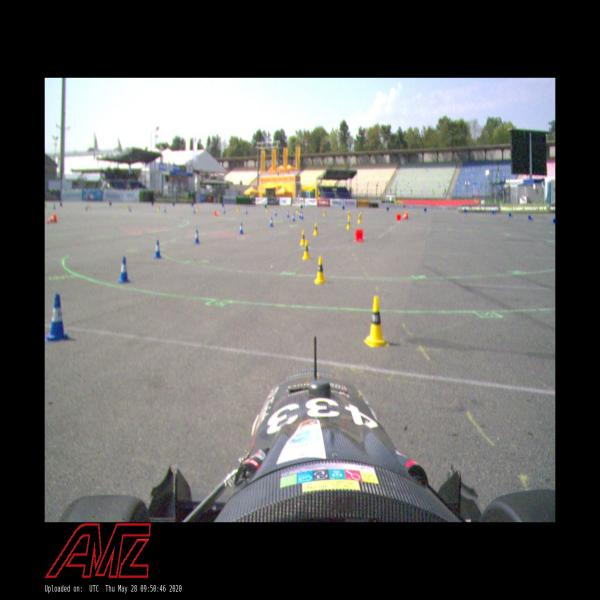blue_cone: (44, 292, 70, 343), (118, 255, 131, 284), (153, 239, 162, 259), (194, 228, 200, 244), (239, 222, 244, 235), (269, 217, 274, 227), (292, 212, 296, 222), (286, 210, 290, 218), (274, 210, 277, 216), (301, 211, 303, 220), (299, 210, 301, 218)
orange_cone: (355, 229, 364, 243), (46, 214, 57, 224), (402, 212, 409, 220), (396, 213, 402, 222), (214, 210, 220, 217)
yellow_cone: (363, 295, 390, 348), (314, 256, 326, 284), (302, 239, 311, 260), (300, 230, 306, 245), (313, 222, 318, 236), (346, 218, 351, 229), (358, 214, 361, 224), (323, 208, 326, 216), (348, 211, 351, 218), (360, 212, 362, 220), (297, 207, 299, 214)
